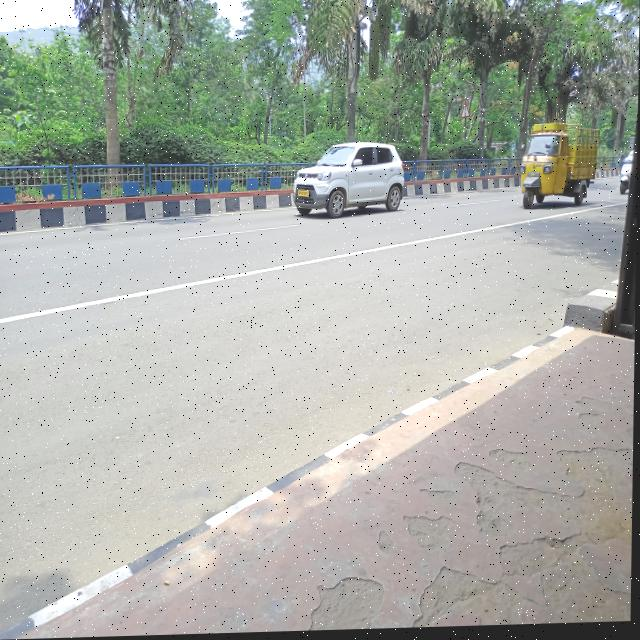bike: (619, 153, 634, 200)
car: (293, 136, 415, 236)
